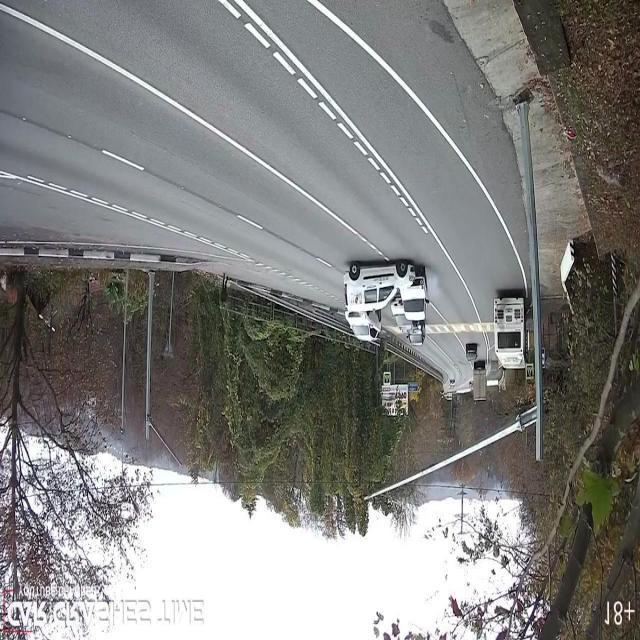moderate: (341, 256, 432, 331)
